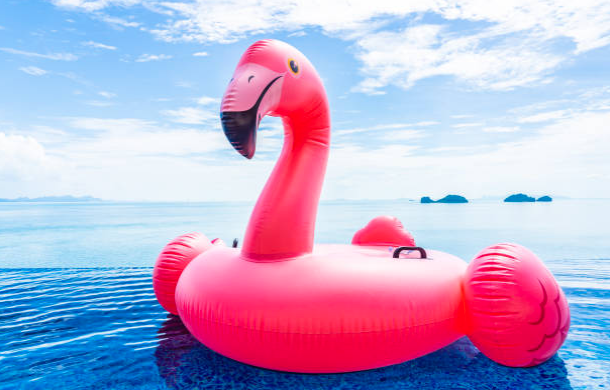Flamingo: (150, 35, 576, 376)
